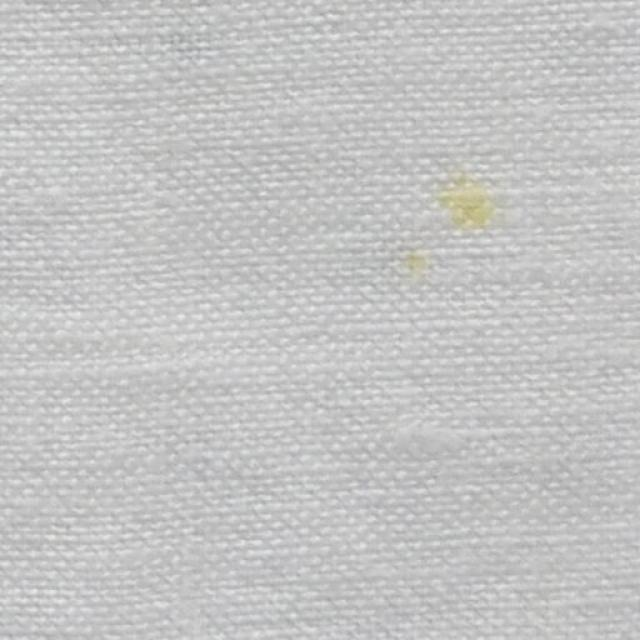Stain: (441, 178, 495, 228), (405, 251, 432, 278)
